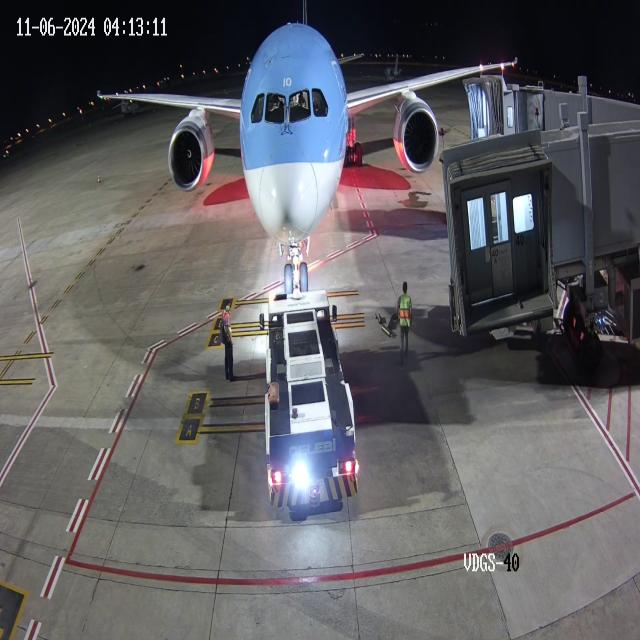bridge: (487, 70, 546, 145)
plane: (88, 0, 434, 298)
window: (245, 82, 337, 130)
